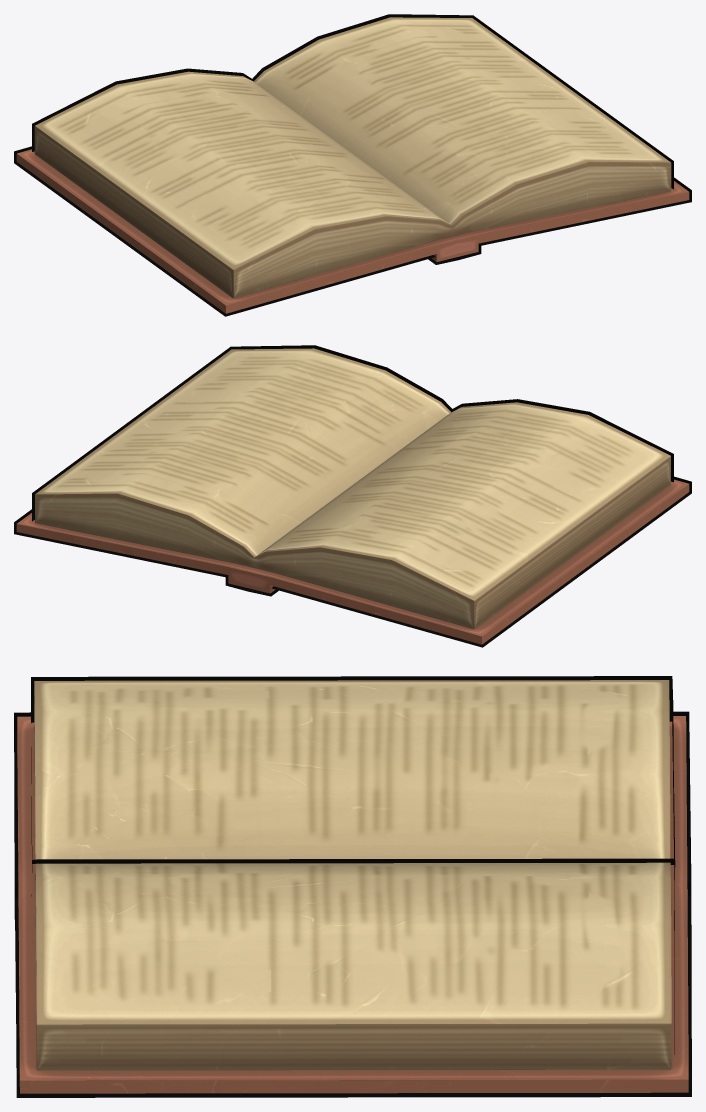
File: Book 1.fbx
3 views of the same model, one above another, from view 1: azimuth 30°, elevation 25°; view 2: azimuth 150°, elevation 25°; view 3: azimuth 270°, elevation 25° (orthographic). The views are drawn at different scales.
Parts seen in each view (by area): view 1: Book 1; view 2: Book 1; view 3: Book 1.
Boxes of the visible parts, <box> form: Book 1: <box>14,14,691,316</box>; Book 1: <box>14,345,691,647</box>; Book 1: <box>14,676,691,1097</box>.
Size of the model in its own units: 78.72 by 10.01 by 61.4.
